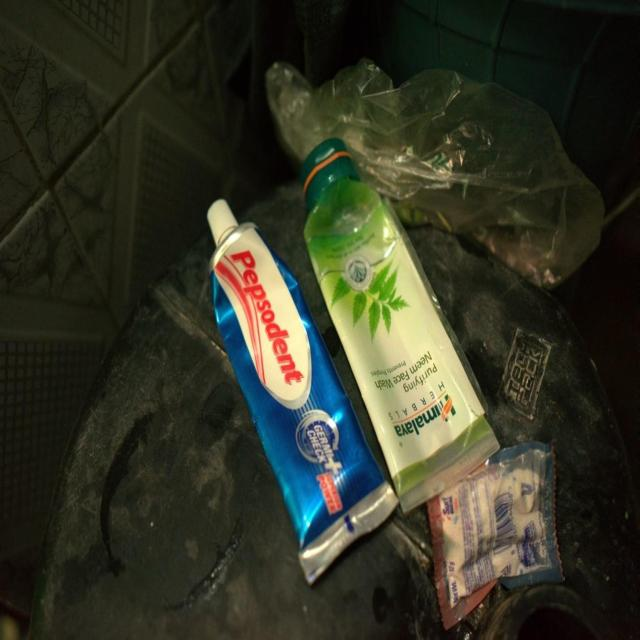Toothpaste: (203, 189, 399, 589), (296, 142, 504, 512)
